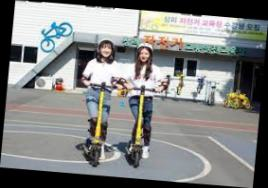helmet: (116, 40, 171, 171), (74, 36, 128, 168)
